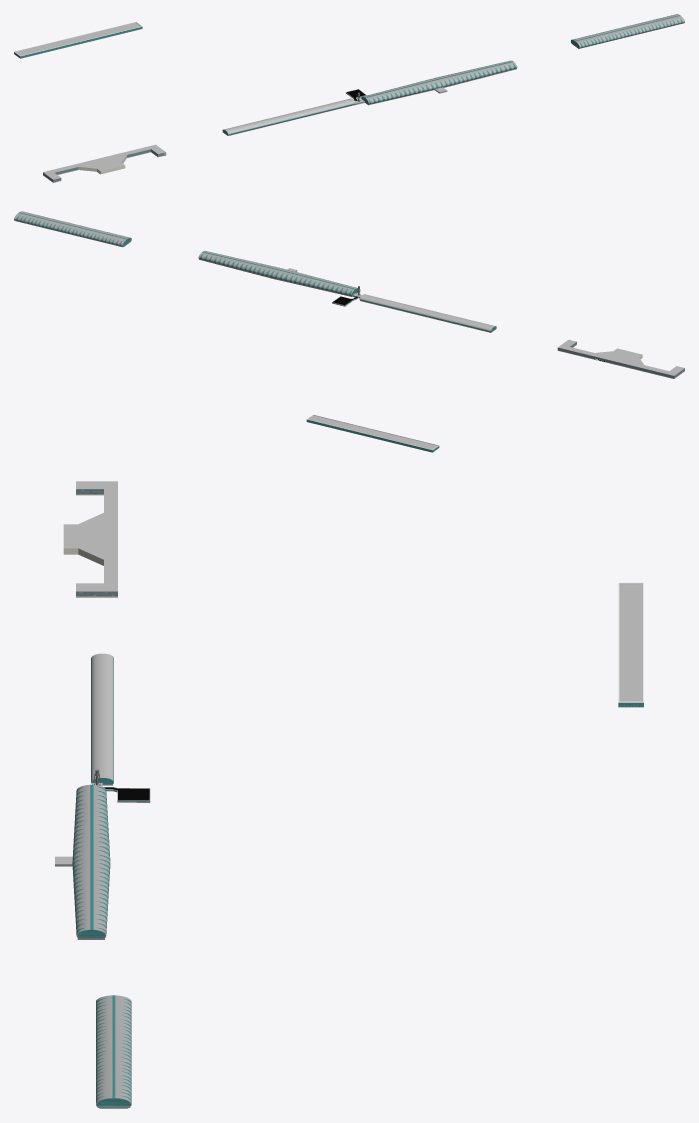
The model's file is DXB8.glb.
The picture shows the model from 3 angles, top to bottom: view 1: azimuth 30°, elevation 25°; view 2: azimuth 150°, elevation 25°; view 3: azimuth 270°, elevation 25°; orthographic projection. The views are drawn at different scales.
Parts seen in each view (by area): view 1: Circle.002, Plane.001, Circle.004, Cube.013, Circle.001, Circle.007; view 2: Circle.002, Plane.001, Circle.004, Cube.013, Circle.001; view 3: Circle.002, Plane.001, Circle.004, Cube.013, Circle.001.
Part boxes in pixels (x1,y1,x2,y2): Circle.002: (361, 60, 517, 104); Plane.001: (43, 144, 166, 182); Circle.004: (570, 14, 684, 48); Cube.013: (14, 22, 142, 58); Circle.001: (222, 98, 355, 135); Circle.007: (228, 103, 355, 135); Circle.002: (198, 250, 358, 296); Plane.001: (557, 339, 684, 378); Circle.004: (14, 211, 131, 246); Cube.013: (306, 414, 439, 452); Circle.001: (360, 294, 496, 332); Circle.002: (72, 784, 110, 938); Plane.001: (63, 481, 117, 597); Circle.004: (96, 995, 131, 1108); Cube.013: (618, 582, 643, 707); Circle.001: (91, 653, 113, 785).
Size of the model in its own units: 3051 by 53.34 by 1222.
Materials: 5 (3 with a texture image).
